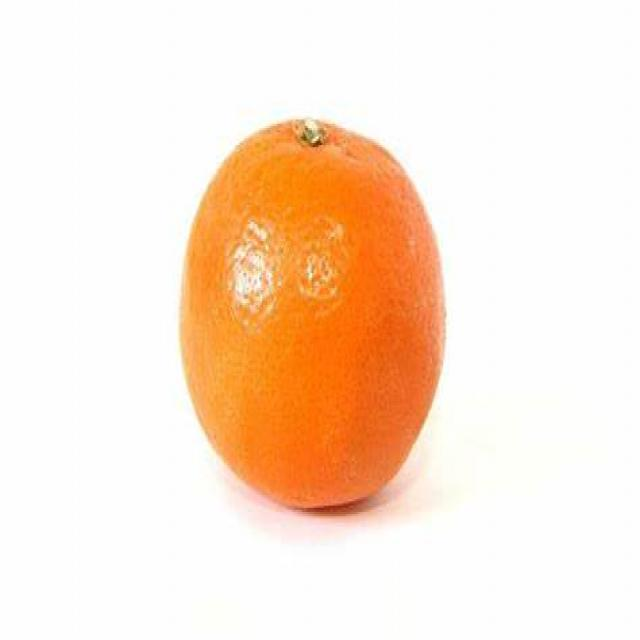Orange: (176, 116, 450, 515)
